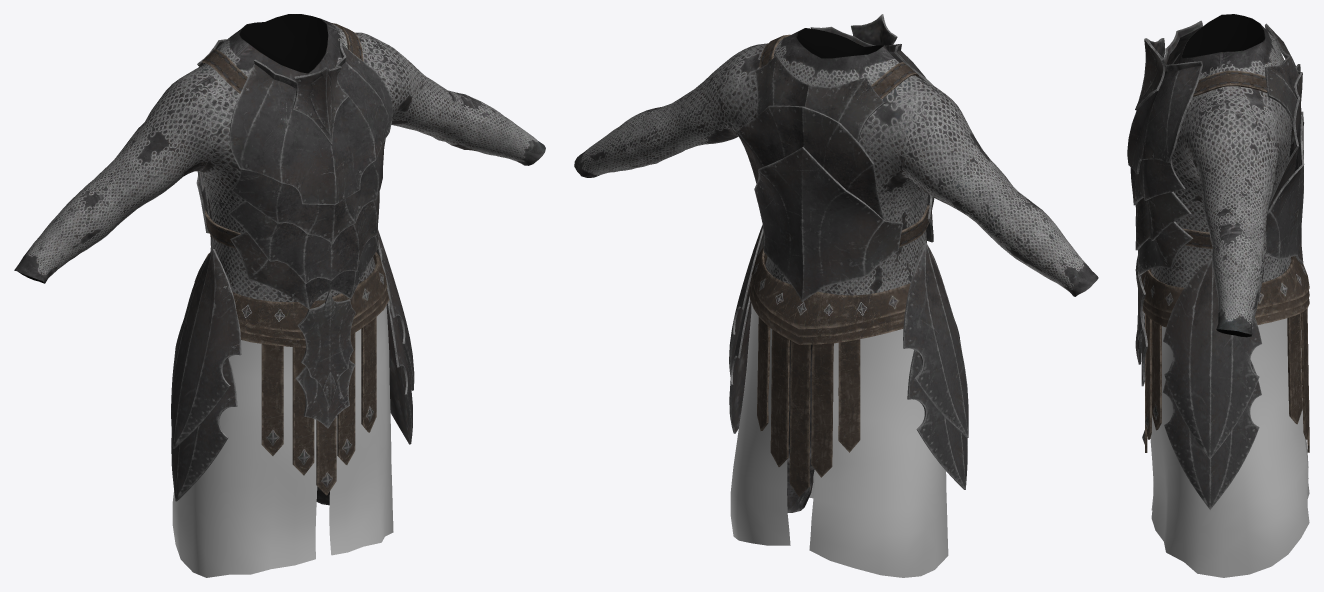
The model's file is sk_uruk_mordor_chainmail_elite_a2.fbx.
3 views of the same model, side by side, from view 1: azimuth 30°, elevation 25°; view 2: azimuth 150°, elevation 25°; view 3: azimuth 270°, elevation 25° (orthographic). The views are drawn at different scales.
Visible parts, largest first — view 1: sk_uruk_mordor_chainmail_elite_a2.3, sk_uruk_mordor_chainmail_elite_a2.0, sk_uruk_mordor_chainmail_elite_a2.2, sk_uruk_mordor_chainmail_elite_a2.1, sk_uruk_mordor_chainmail_elite_a2.4; view 2: sk_uruk_mordor_chainmail_elite_a2.0, sk_uruk_mordor_chainmail_elite_a2.2, sk_uruk_mordor_chainmail_elite_a2.3, sk_uruk_mordor_chainmail_elite_a2.1, sk_uruk_mordor_chainmail_elite_a2.4; view 3: sk_uruk_mordor_chainmail_elite_a2.0, sk_uruk_mordor_chainmail_elite_a2.2, sk_uruk_mordor_chainmail_elite_a2.3, sk_uruk_mordor_chainmail_elite_a2.4, sk_uruk_mordor_chainmail_elite_a2.1.
Part boxes in pixels (bbox=[...]): sk_uruk_mordor_chainmail_elite_a2.3: bbox=[196, 38, 392, 428]; sk_uruk_mordor_chainmail_elite_a2.0: bbox=[14, 14, 545, 505]; sk_uruk_mordor_chainmail_elite_a2.2: bbox=[172, 305, 393, 577]; sk_uruk_mordor_chainmail_elite_a2.1: bbox=[194, 23, 389, 495]; sk_uruk_mordor_chainmail_elite_a2.4: bbox=[171, 230, 414, 501]; sk_uruk_mordor_chainmail_elite_a2.0: bbox=[574, 28, 1098, 512]; sk_uruk_mordor_chainmail_elite_a2.2: bbox=[730, 303, 948, 577]; sk_uruk_mordor_chainmail_elite_a2.3: bbox=[736, 14, 934, 301]; sk_uruk_mordor_chainmail_elite_a2.1: bbox=[749, 34, 929, 496]; sk_uruk_mordor_chainmail_elite_a2.4: bbox=[729, 225, 968, 489]; sk_uruk_mordor_chainmail_elite_a2.0: bbox=[1151, 14, 1292, 337]; sk_uruk_mordor_chainmail_elite_a2.2: bbox=[1150, 318, 1309, 577]; sk_uruk_mordor_chainmail_elite_a2.3: bbox=[1127, 20, 1304, 386]; sk_uruk_mordor_chainmail_elite_a2.4: bbox=[1162, 258, 1261, 509]; sk_uruk_mordor_chainmail_elite_a2.1: bbox=[1141, 70, 1309, 452].
Size of the model in its own units: 1.37 by 0.4273 by 1.29.
